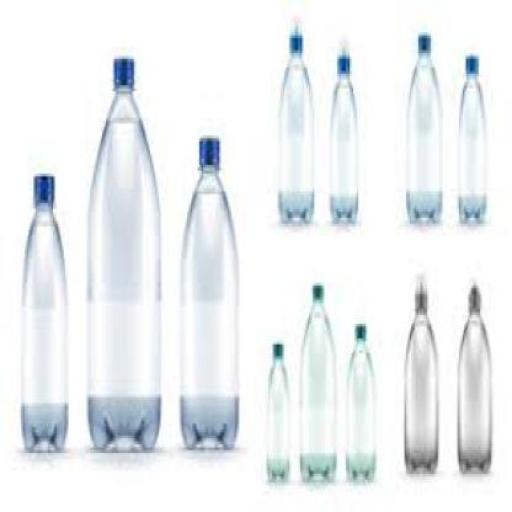plastic: (86, 52, 160, 448), (178, 136, 237, 450), (19, 170, 67, 454), (298, 283, 336, 483), (276, 14, 312, 221), (403, 267, 438, 474), (406, 29, 440, 221), (455, 280, 489, 471), (329, 35, 357, 221), (456, 52, 486, 221), (344, 322, 375, 482), (266, 341, 288, 482), (111, 53, 134, 89), (32, 170, 53, 208), (196, 136, 219, 168), (411, 270, 426, 312), (335, 33, 348, 73), (288, 15, 300, 53), (468, 280, 478, 312), (414, 30, 430, 50), (462, 53, 477, 74), (311, 283, 322, 303), (351, 320, 364, 336), (272, 339, 281, 359)
